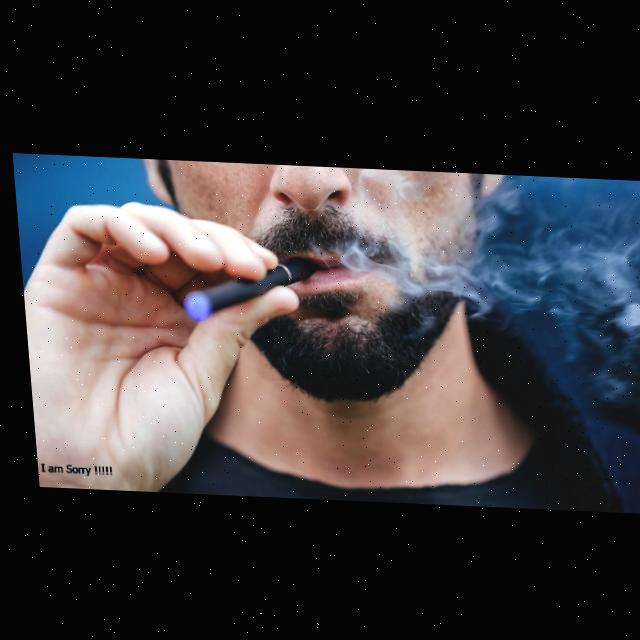vape: (174, 249, 316, 325)
